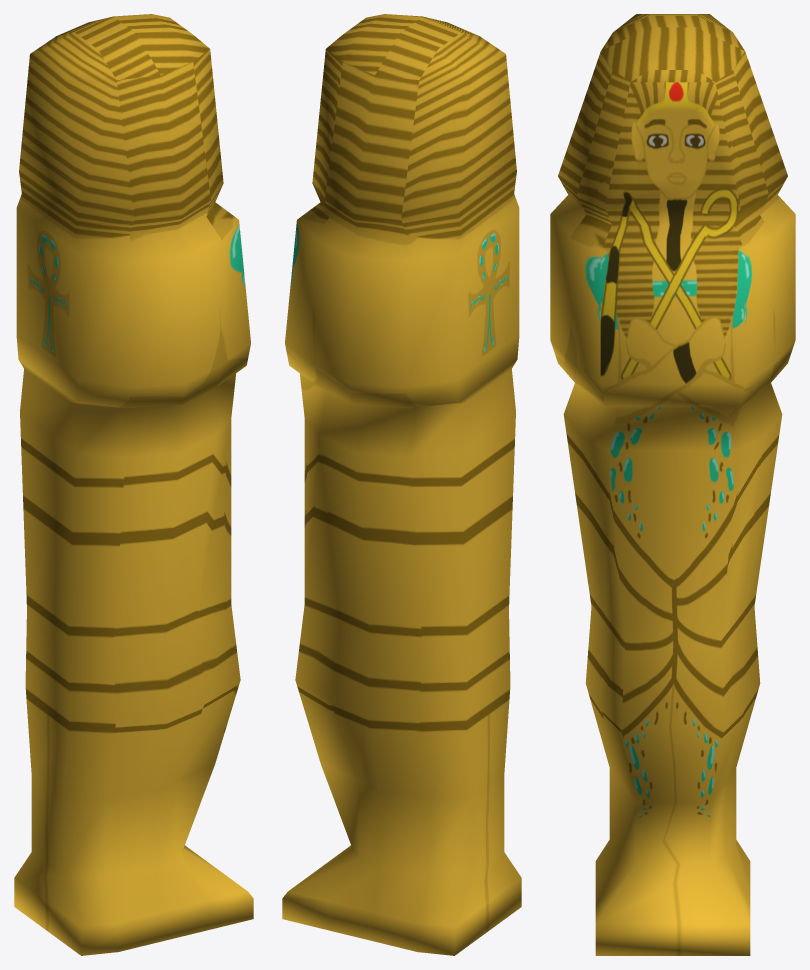
File: Sarkofag.glb
3 renders of one model, left to right at view 1: azimuth 30°, elevation 25°; view 2: azimuth 150°, elevation 25°; view 3: azimuth 270°, elevation 25°, orthographic.
Visible parts, largest first — view 1: Cube; view 2: Cube; view 3: Cube.
Boxes of the visible parts, x1,y1,x2,y2 form: Cube: (14, 14, 253, 955); Cube: (282, 14, 521, 955); Cube: (550, 14, 795, 955).
Bounding box in the file's own units: 0.8913 × 4.53 × 1.14.
1 material, 1 textured.
